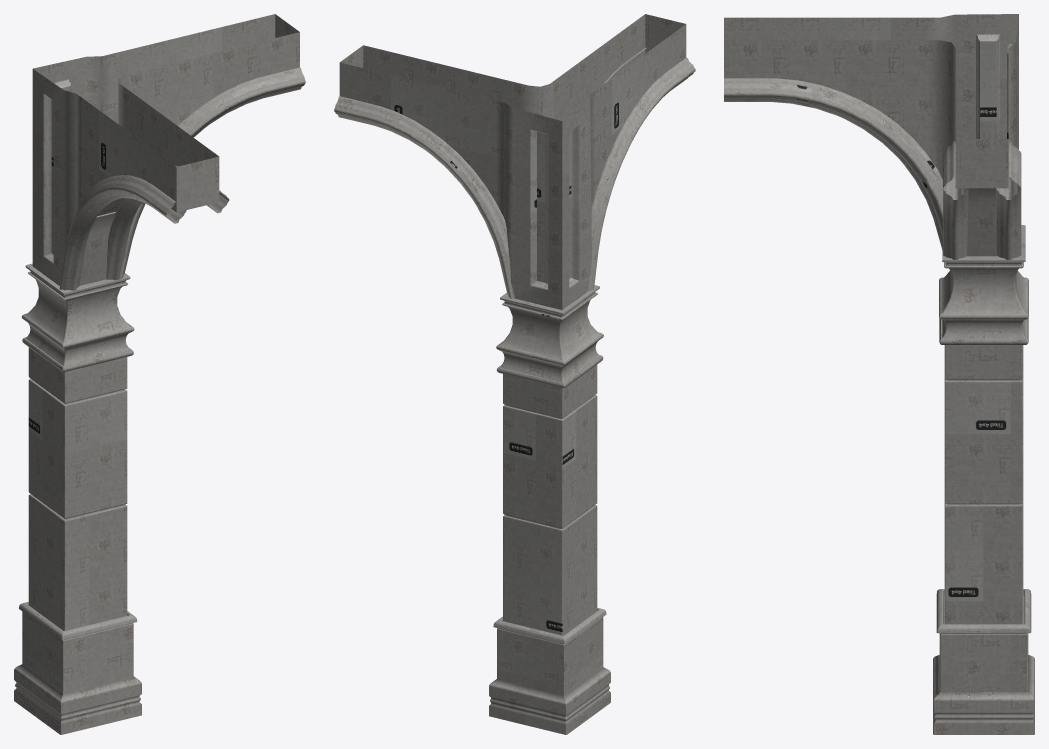
The model's file is Column2X.fbx.
The picture shows the model from 3 angles, left to right: view 1: azimuth 30°, elevation 25°; view 2: azimuth 150°, elevation 25°; view 3: azimuth 270°, elevation 25°; orthographic projection. The views are drawn at different scales.
Parts seen in each view (by area): view 1: Column2.001; view 2: Column2.001; view 3: Column2.001.
Boxes of the visible parts, x1=… form: Column2.001: x1=14, y1=14, x2=305, y2=734; Column2.001: x1=334, y1=14, x2=695, y2=734; Column2.001: x1=724, y1=14, x2=1034, y2=734.
Bounding box in the file's own units: 165 × 400 × 165.
